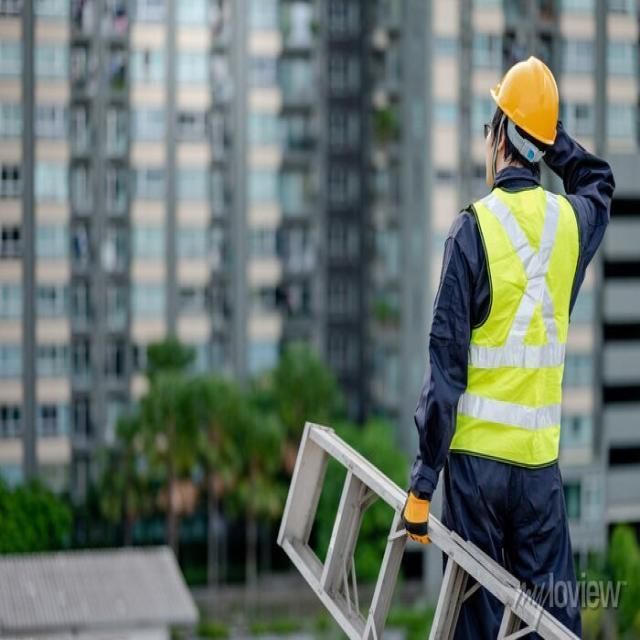helmet: (490, 53, 561, 168)
vest: (444, 180, 582, 474)
